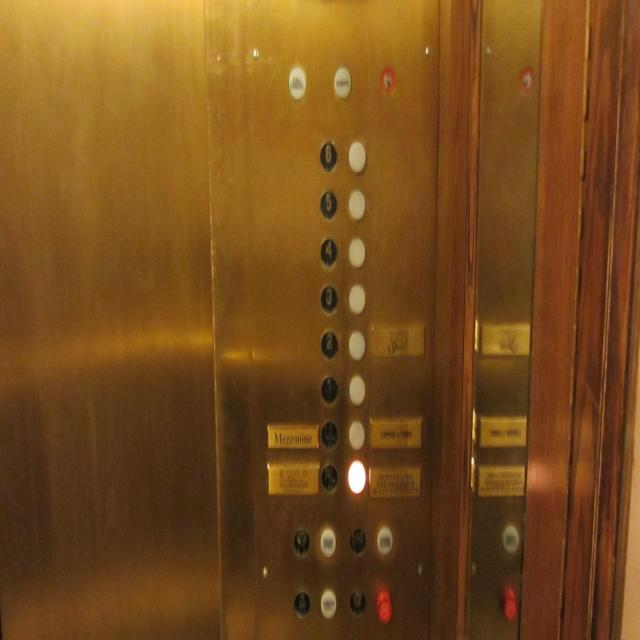1: (321, 375, 337, 402)
2: (320, 328, 339, 360)
3: (319, 282, 338, 315)
4: (320, 236, 338, 268)
5: (319, 188, 338, 222)
6: (318, 140, 338, 173)
RL: (322, 461, 339, 494)
UL: (322, 420, 337, 451)
alarm: (292, 587, 311, 622)
close: (350, 526, 368, 557)
empty: (347, 458, 367, 493), (347, 140, 367, 173), (348, 283, 367, 316), (347, 328, 366, 361), (347, 188, 366, 220), (348, 236, 366, 268), (348, 374, 366, 406), (348, 420, 366, 452)
keyhole: (380, 64, 397, 94), (518, 66, 535, 96), (350, 587, 366, 614)
open: (293, 526, 311, 558)
text: (501, 586, 519, 625), (287, 66, 307, 101), (333, 66, 352, 102), (320, 526, 338, 557), (376, 525, 394, 556), (320, 588, 337, 620)
text_blur: (374, 588, 393, 626), (502, 524, 520, 556)
